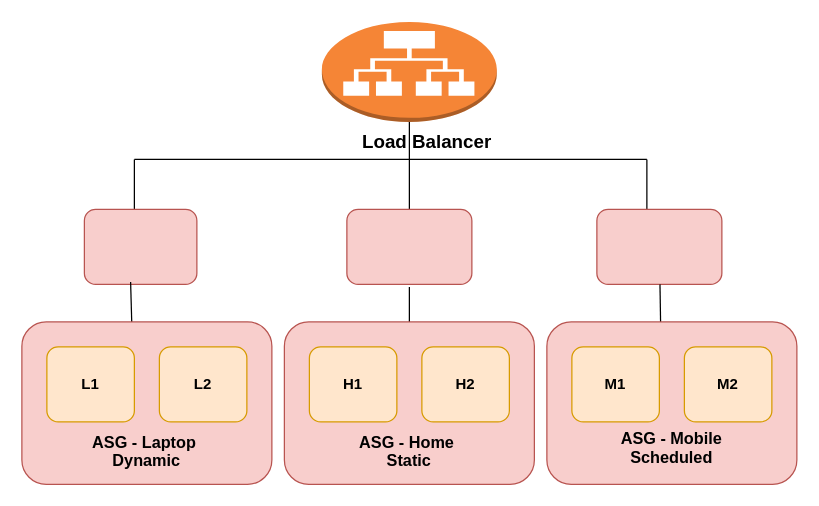
This 819x506 diagram has some shape labels left out. The centre of each missing label's shape, as x and y in pixels:
"Target Group Home" goes at point 409,246.
"Target Group Laptop" goes at point 140,246.
"Target Group Mobile" goes at point 659,246.
